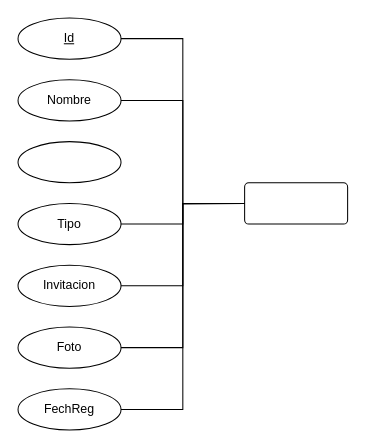
This 366x448 diagram has some shape labels left out. The box of each missing label's shape, as (x1, y1, x2, y2) in pixels:
Correo: (17, 141, 121, 183)
Participantes: (244, 182, 348, 224)
